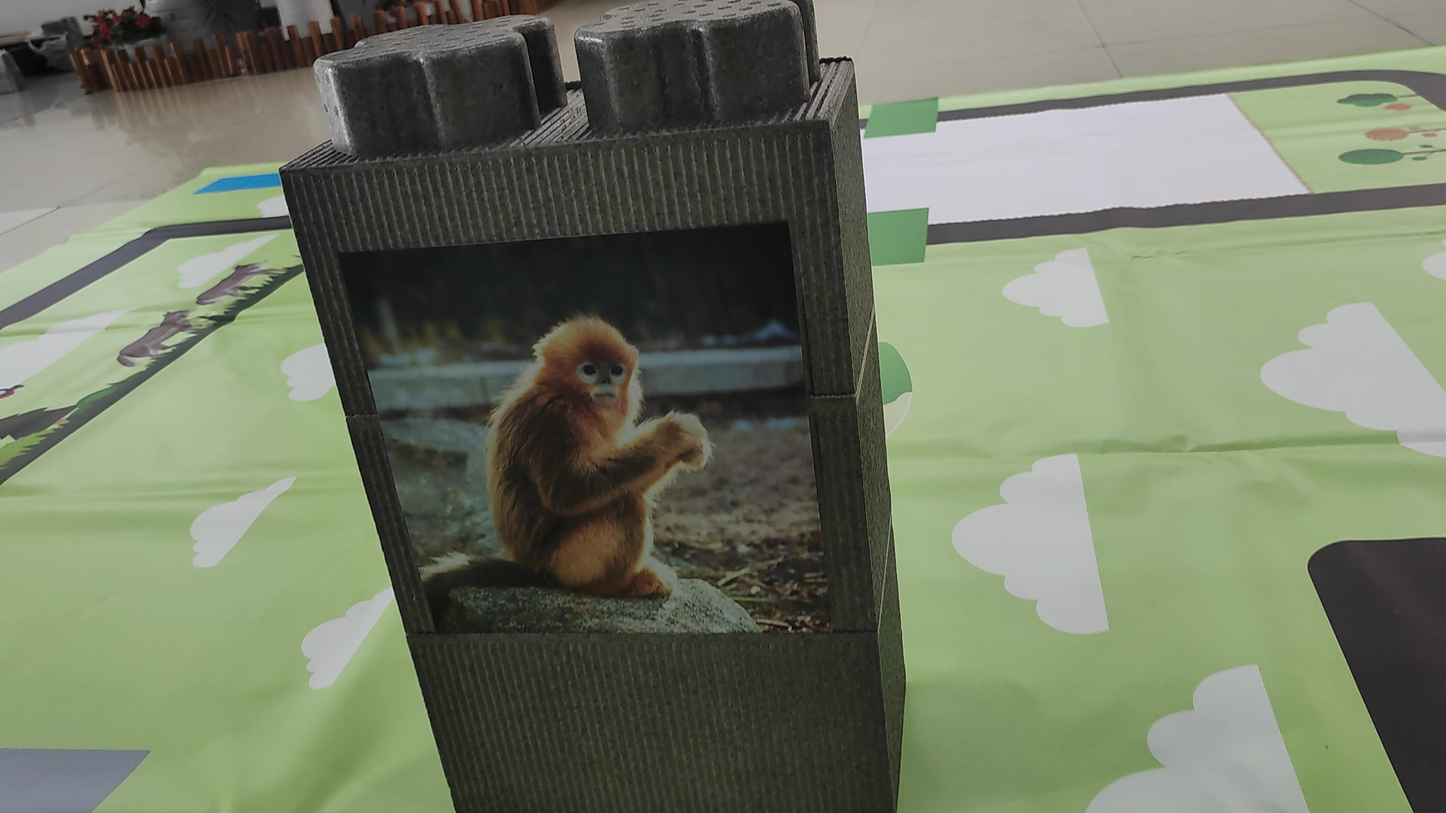monkey: (410, 287, 772, 643)
